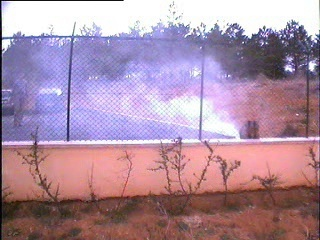smoke: (65, 31, 245, 142)
